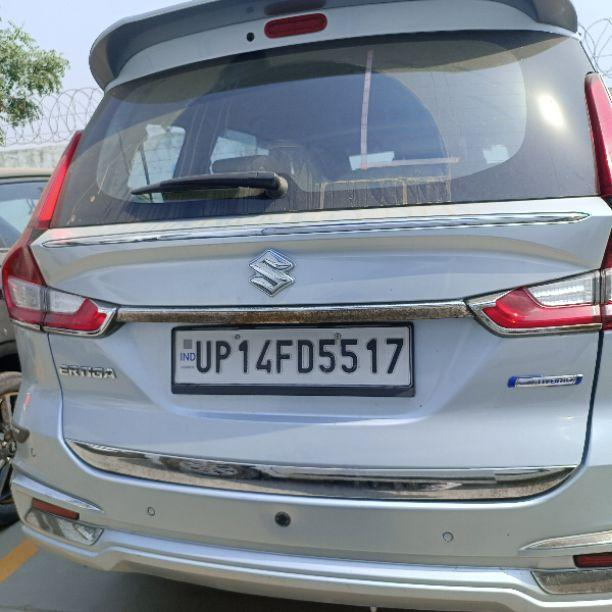license_plate: (169, 320, 415, 396)
